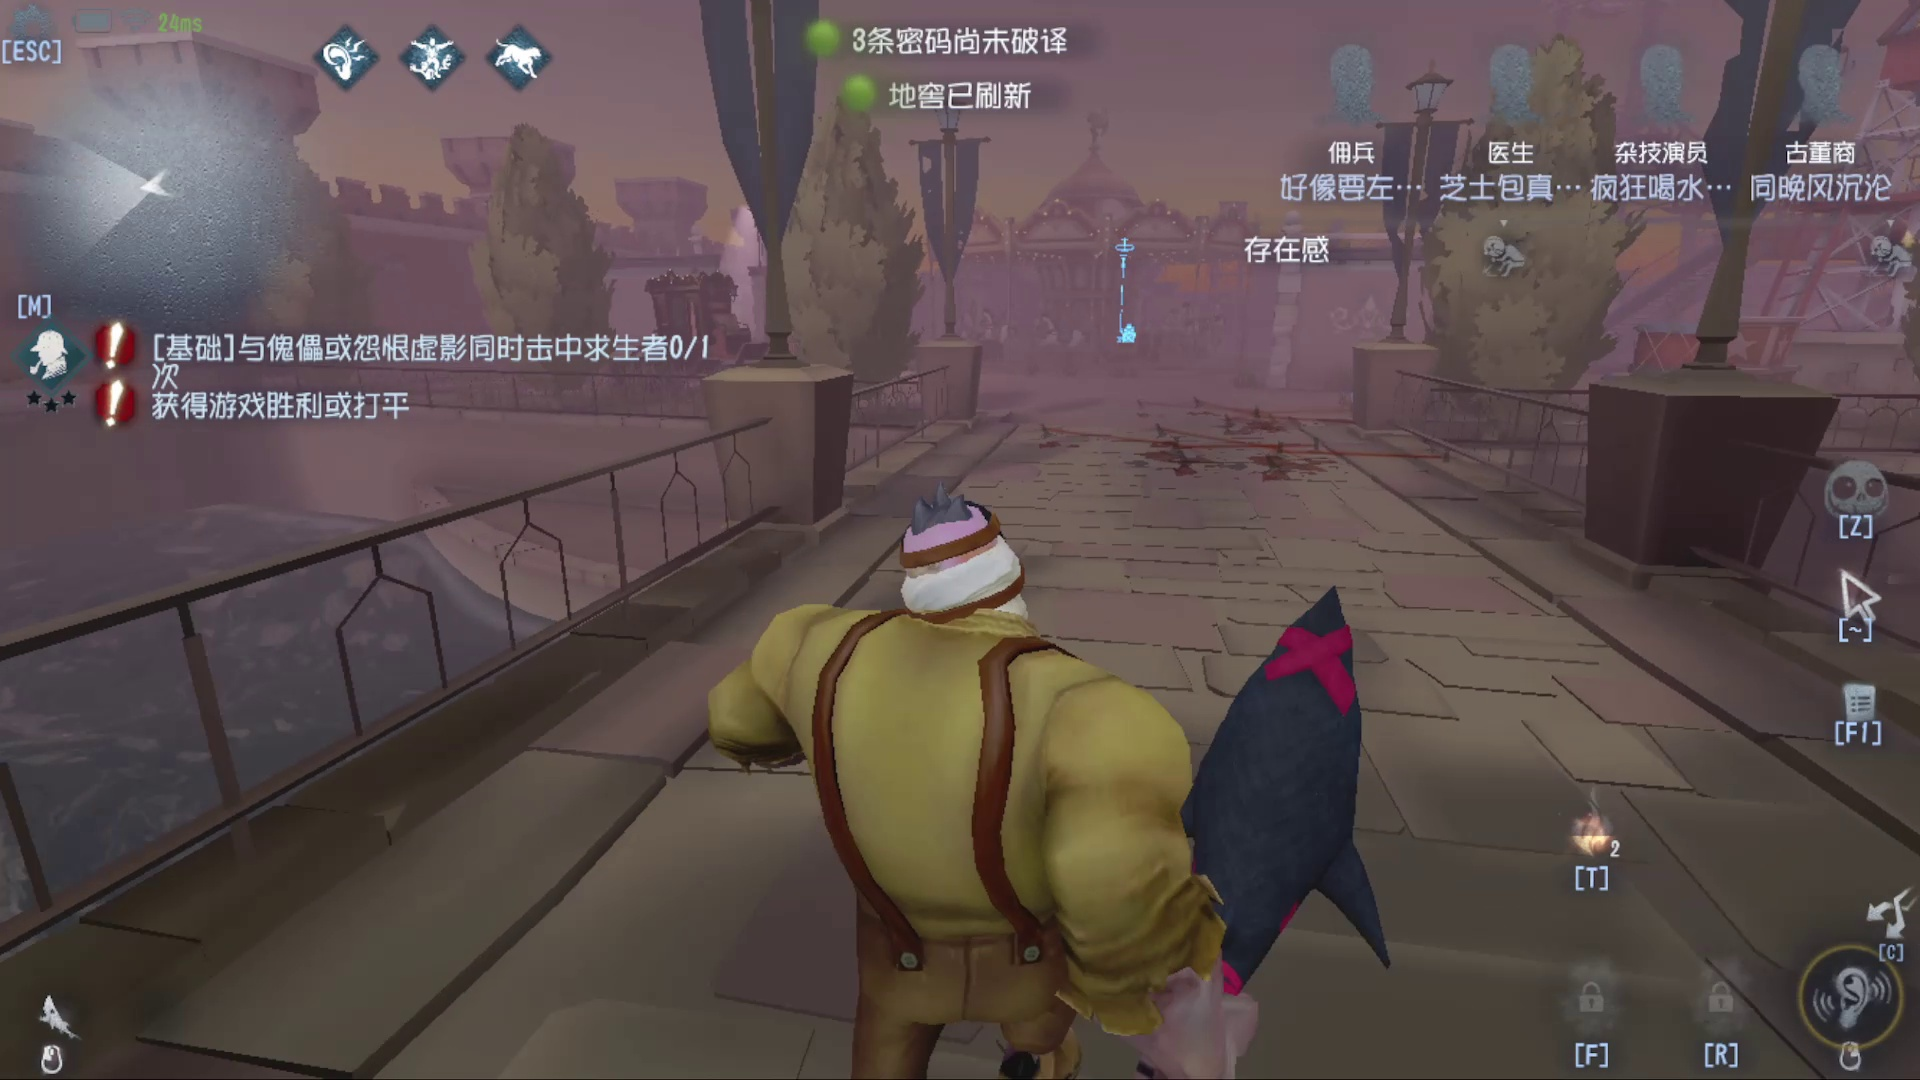密码机: (1087, 231, 1147, 355)
脚印: (1023, 373, 1356, 502)
